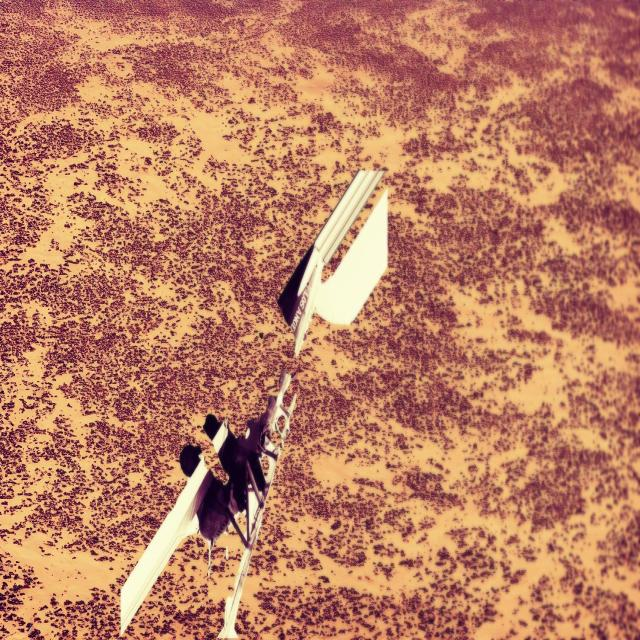airplane: (119, 170, 387, 638)
